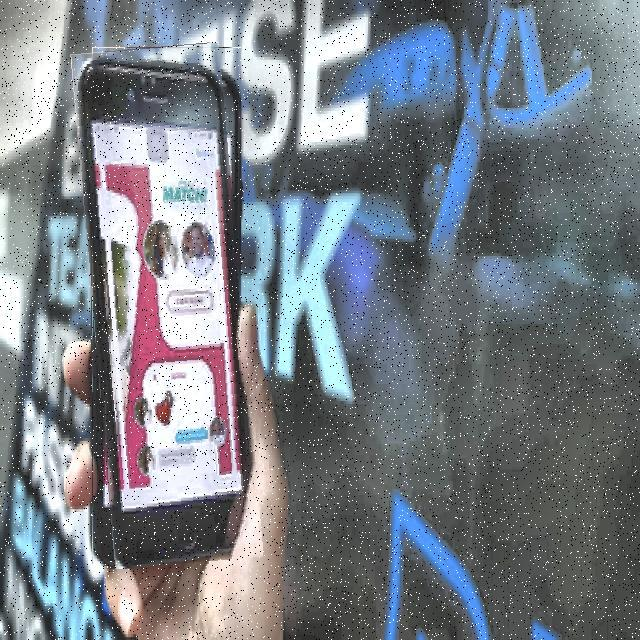Phone: (81, 44, 252, 567)
